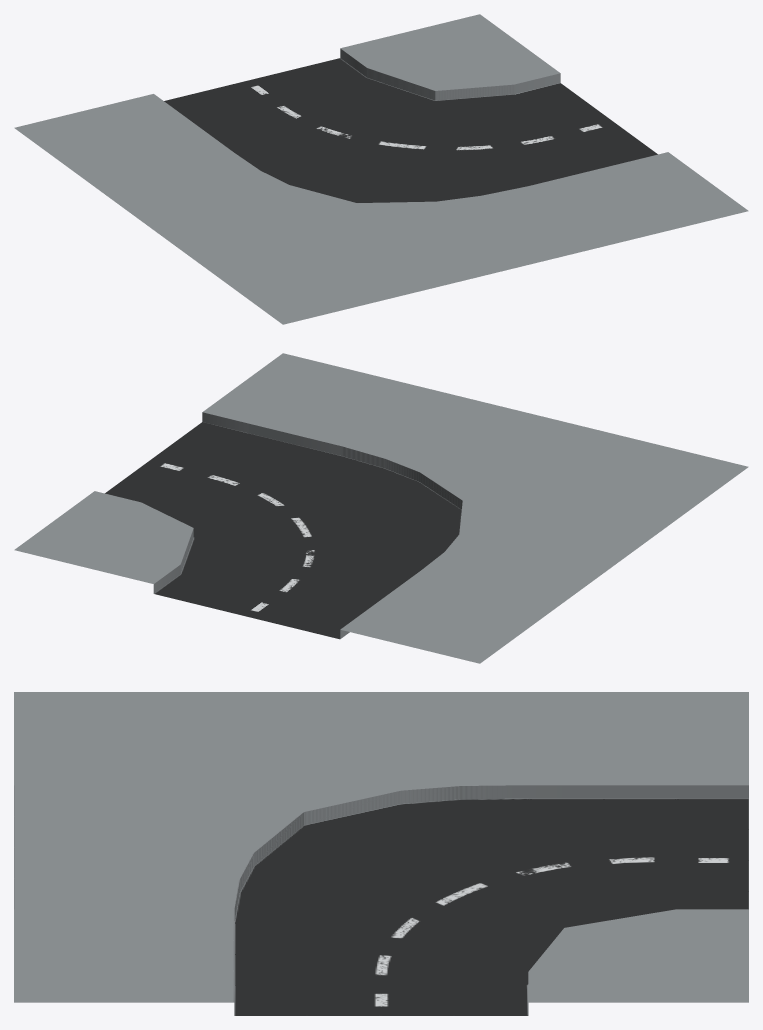
File: Road_Turn.fbx
3 renders of one model, top to bottom at view 1: azimuth 30°, elevation 25°; view 2: azimuth 150°, elevation 25°; view 3: azimuth 270°, elevation 25°, orthographic. The views are drawn at different scales.
Visible parts, largest first — view 1: Road_Turn; view 2: Road_Turn; view 3: Road_Turn.
Boxes of the visible parts, x1,y1,x2,y2 form: Road_Turn: (14,14,748,324); Road_Turn: (14,353,748,663); Road_Turn: (14,692,748,1015).
Size of the model in its own units: 10 by 0.2 by 10.
